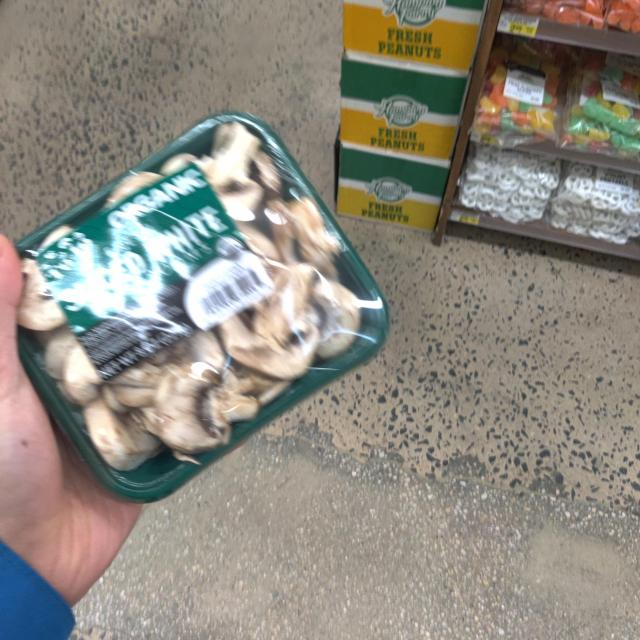Mushrooms: (13, 120, 389, 482)
